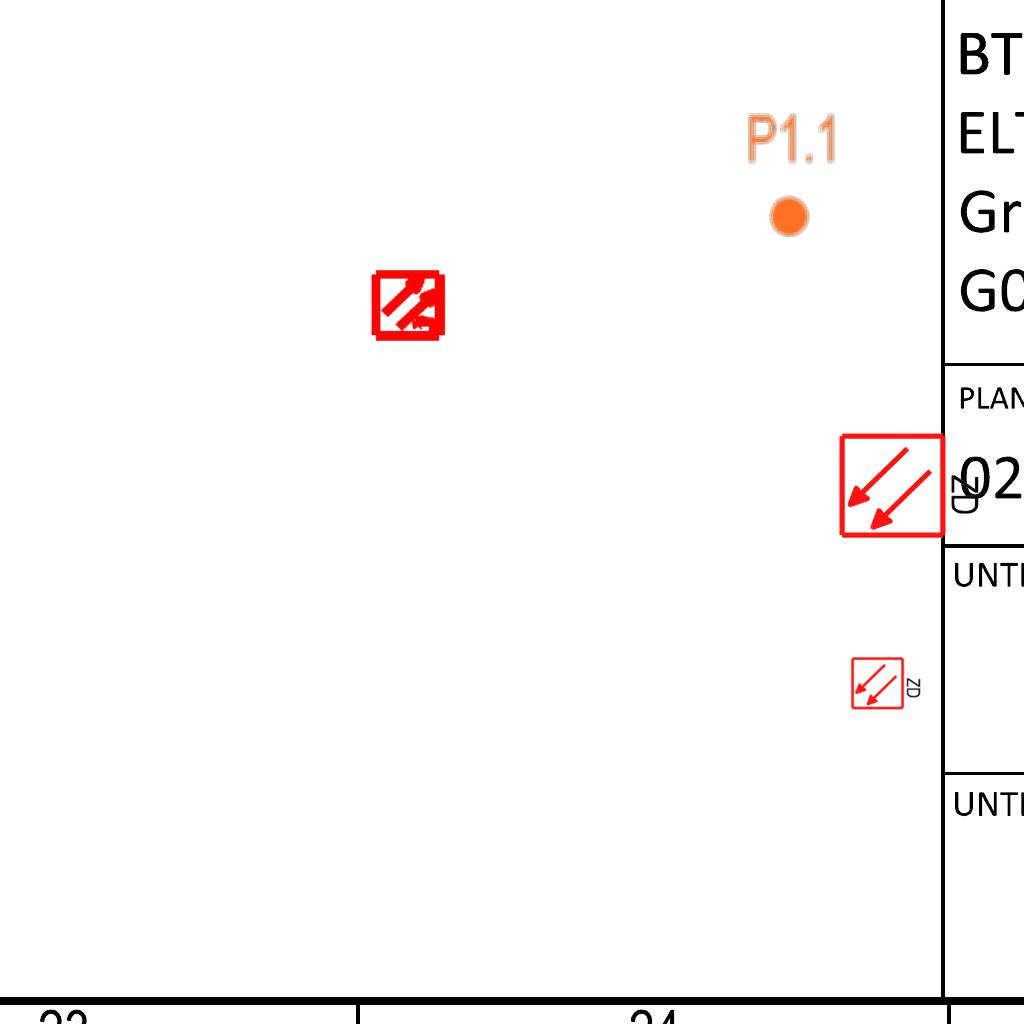Downlight_LED_Einbauleuchten_Flur: (746, 111, 839, 239)
OT_Multisensormelder_(Kombination_RMO_WMD): (354, 249, 467, 362)
ZD_Melder_in_Zwischendecke_mit_Revisionsoeffnung_mind_40_x_40_cm: (837, 427, 986, 541), (850, 654, 924, 711)
